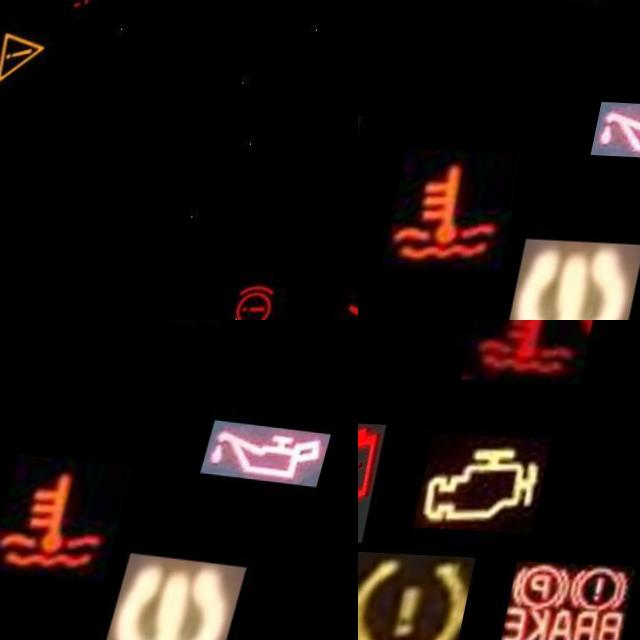Engine cooling system: (7, 449, 154, 581), (404, 145, 541, 268), (472, 320, 607, 379)
